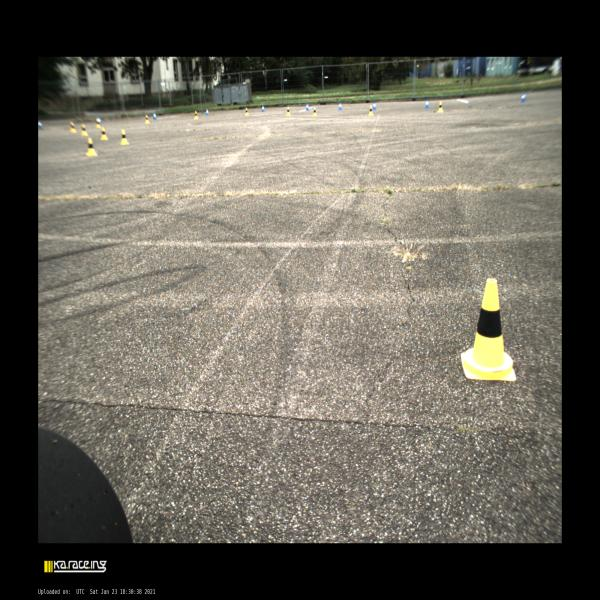blue_cone: (520, 92, 526, 103), (38, 120, 44, 130), (97, 116, 102, 125), (372, 101, 376, 110), (425, 99, 429, 108), (152, 112, 157, 119), (261, 104, 265, 112), (338, 102, 342, 110), (206, 108, 209, 116), (306, 103, 309, 110)
yellow_cone: (461, 279, 516, 381), (87, 138, 97, 156), (121, 129, 129, 145), (101, 127, 108, 140), (81, 124, 88, 136), (438, 101, 444, 113), (70, 121, 76, 133), (312, 106, 318, 116), (95, 118, 101, 128), (368, 105, 373, 116), (145, 114, 150, 124), (194, 110, 199, 120), (286, 107, 291, 116), (245, 107, 249, 116)
